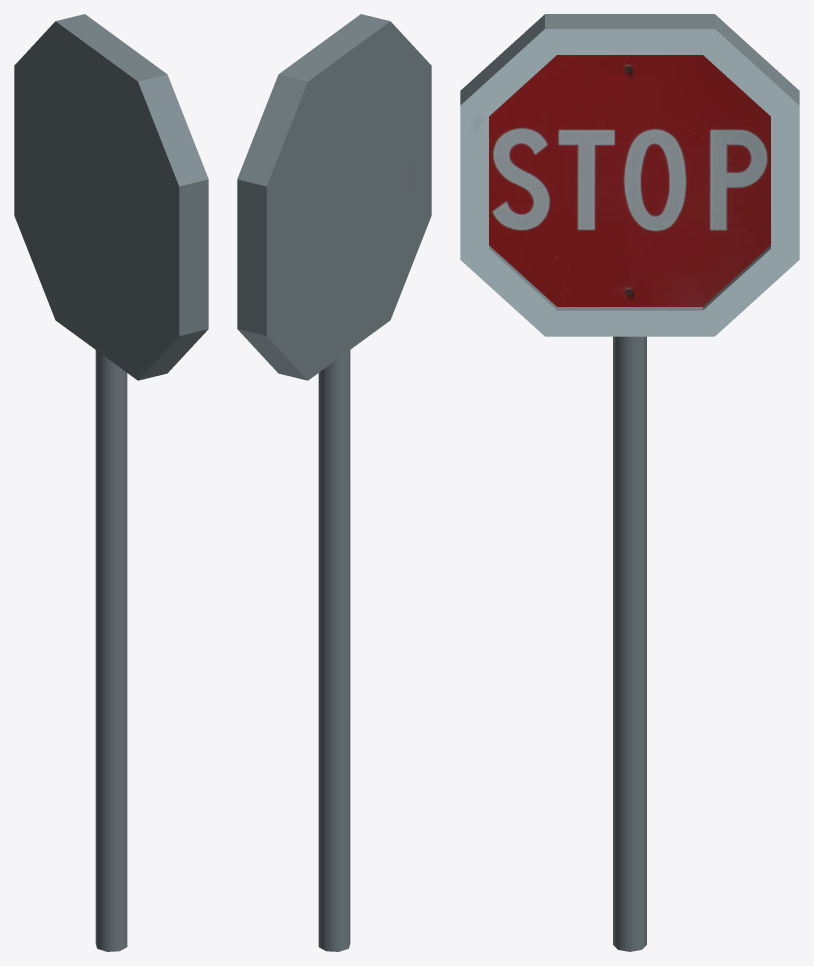
The model's file is Stop_Sign.fbx.
3 renders of one model, left to right at view 1: azimuth 30°, elevation 25°; view 2: azimuth 150°, elevation 25°; view 3: azimuth 270°, elevation 25°, orthographic. The views are drawn at different scales.
Visible parts, largest first — view 1: Cube; view 2: Cube; view 3: Cube.
Part boxes in pixels (<box>): Cube: <box>14,14,208,951</box>; Cube: <box>237,14,431,951</box>; Cube: <box>460,14,799,951</box>.
Size of the model in its own units: 20.67 by 600 by 200.
